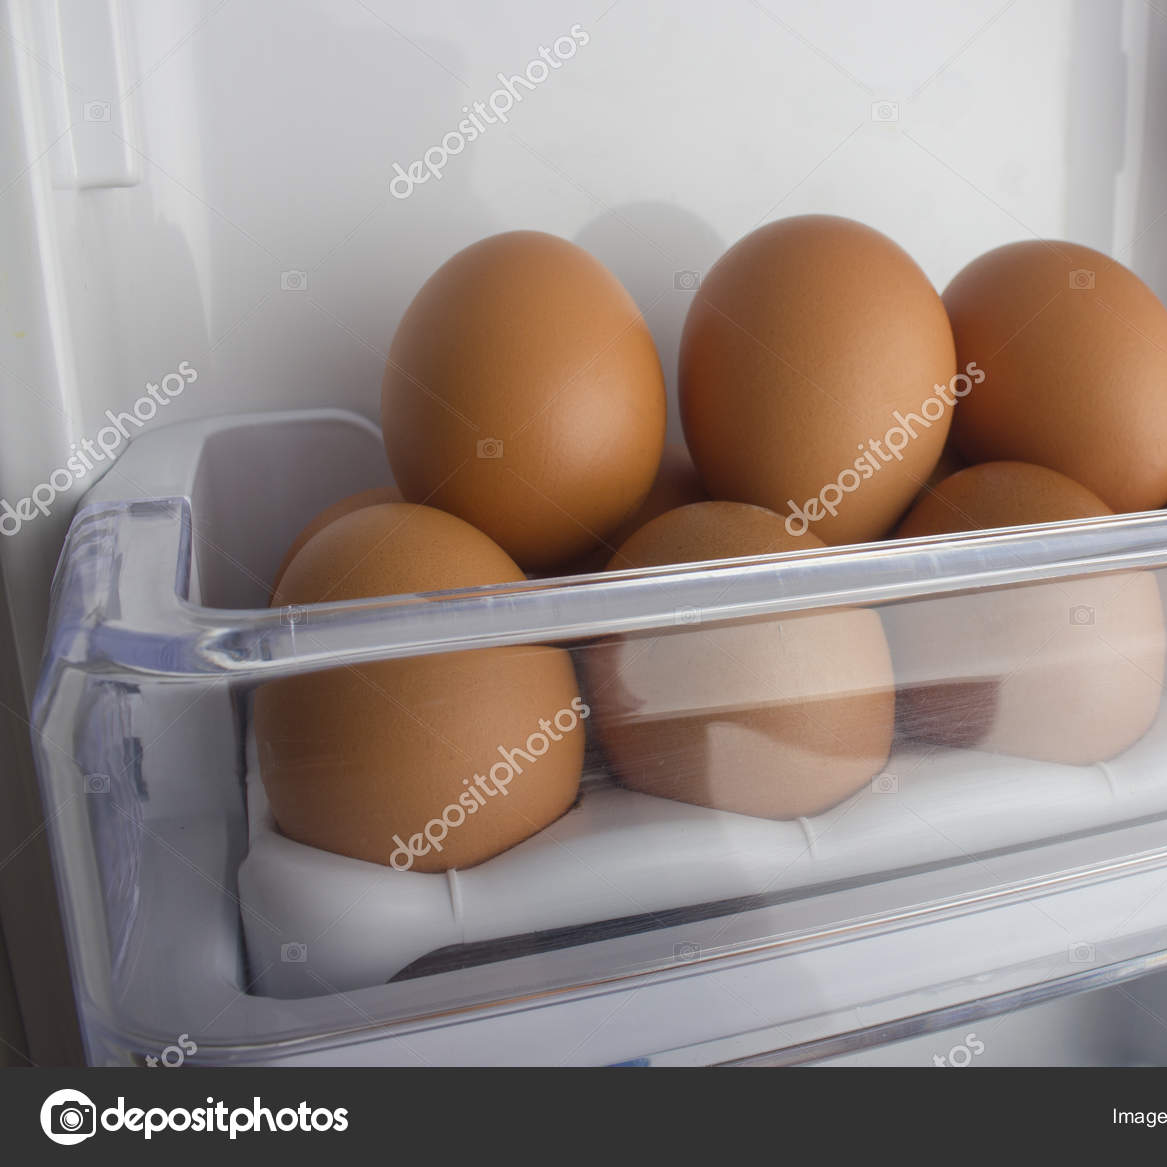egg: (244, 213, 1167, 866)
